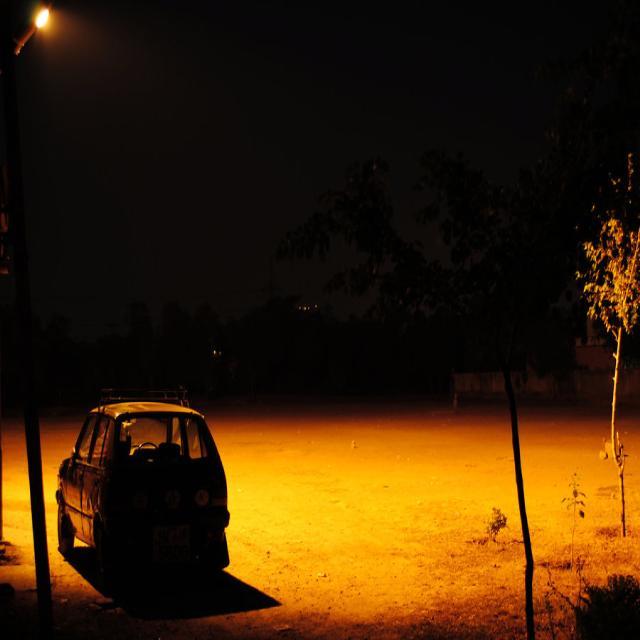Car: (31, 360, 293, 610)
